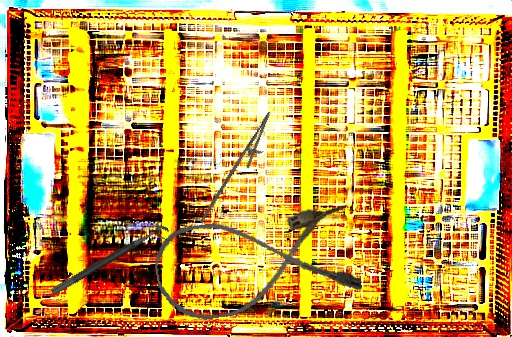Cannula: (149, 201, 364, 327)
Fixation Ring: (49, 222, 175, 306)
Needle Holder: (199, 104, 280, 235)
